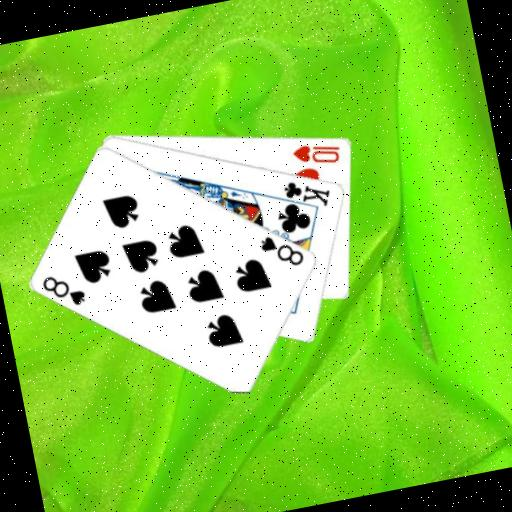10H: (288, 135, 344, 172)
8S: (256, 227, 308, 274), (38, 267, 90, 314)
KC: (271, 172, 335, 219)
